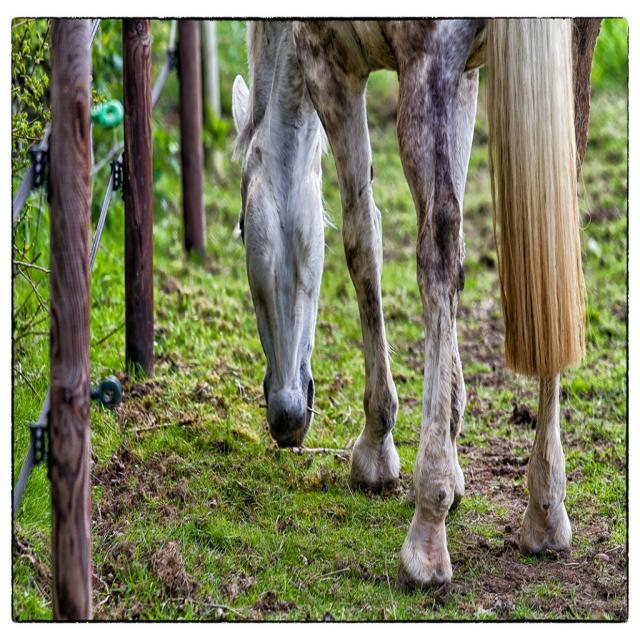Horse: (227, 17, 604, 600)
